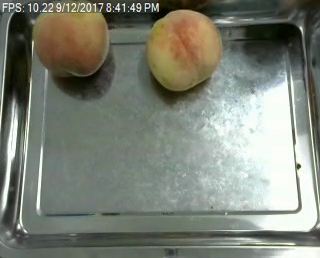Peach: (147, 8, 223, 91), (32, 0, 109, 77)
